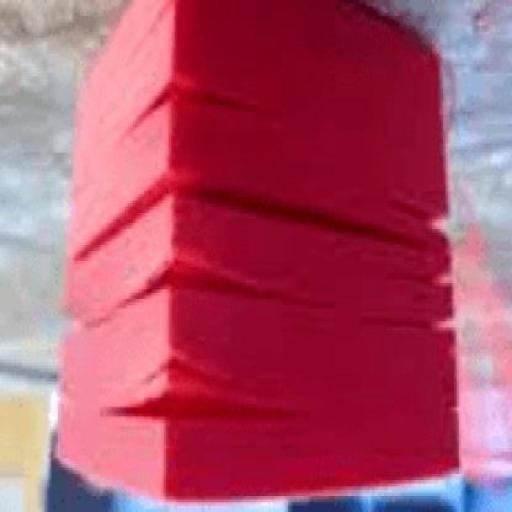cracks: (62, 174, 444, 275), (363, 144, 473, 395), (100, 246, 310, 340), (95, 357, 326, 439), (107, 64, 308, 148)
